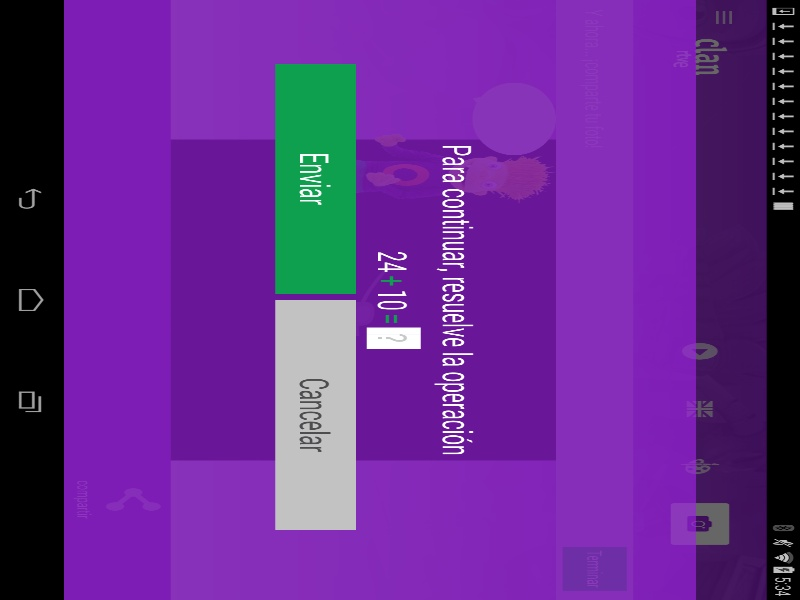Button: (136, 208, 626, 245)
Input: (698, 177, 744, 203)
